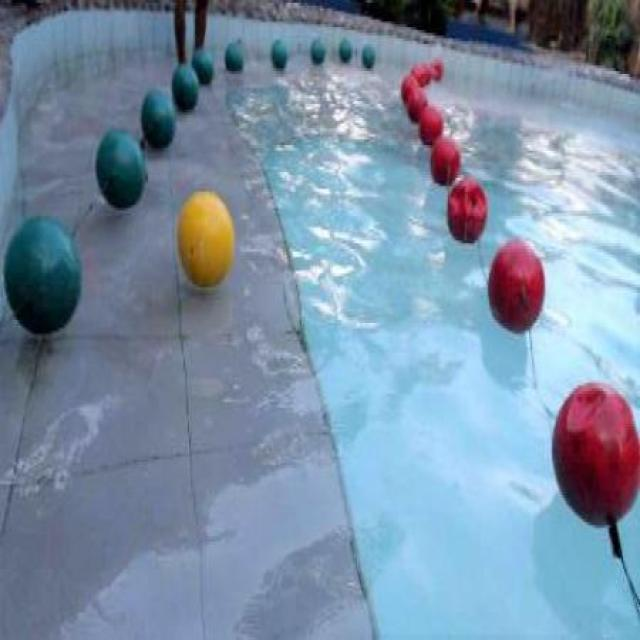buoy: (550, 381, 638, 526), (1, 214, 81, 334), (486, 236, 545, 333), (176, 189, 234, 287), (94, 128, 146, 210), (446, 176, 487, 245), (139, 86, 175, 149), (430, 133, 460, 184), (171, 65, 199, 110), (418, 102, 444, 144), (190, 48, 212, 83), (406, 86, 427, 122), (224, 41, 244, 74), (270, 38, 288, 66), (400, 74, 418, 101), (309, 38, 325, 66), (337, 38, 353, 61), (360, 42, 374, 68)
